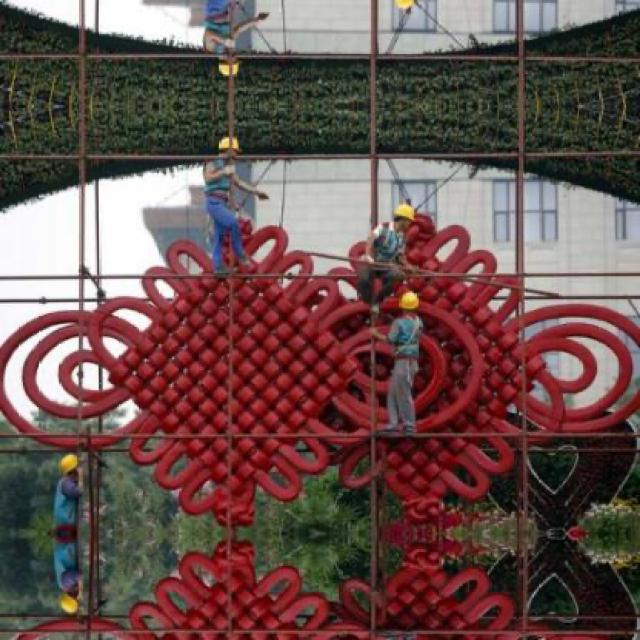helmet: (388, 203, 418, 234), (217, 131, 240, 165), (217, 48, 240, 82), (400, 287, 425, 316), (58, 453, 80, 483), (58, 587, 80, 617), (386, 0, 419, 11)
